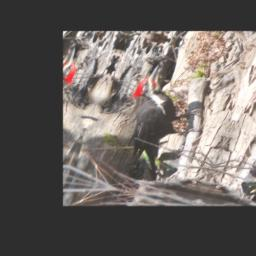Woodpecker: (99, 60, 223, 185)
